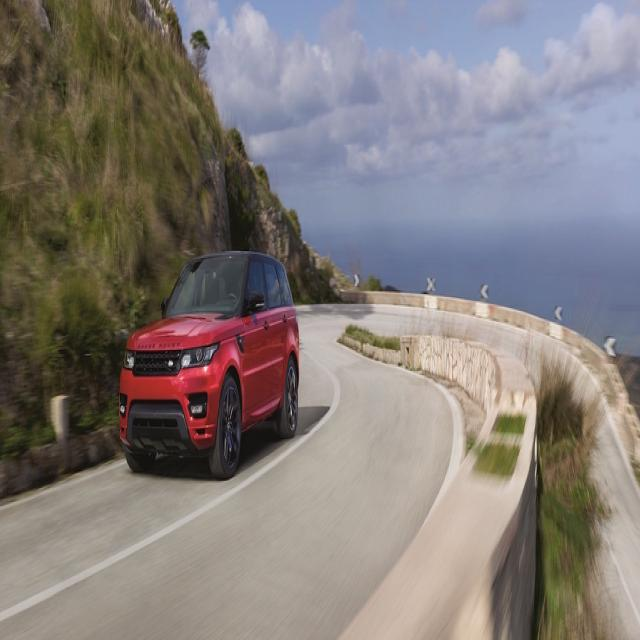car: (117, 243, 300, 476)
